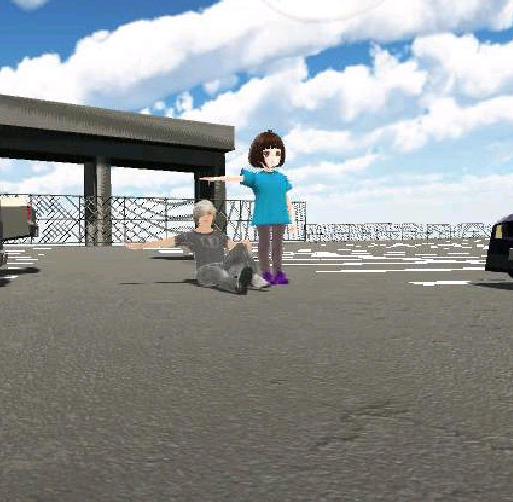doubleP_left: (122, 128, 295, 293)
